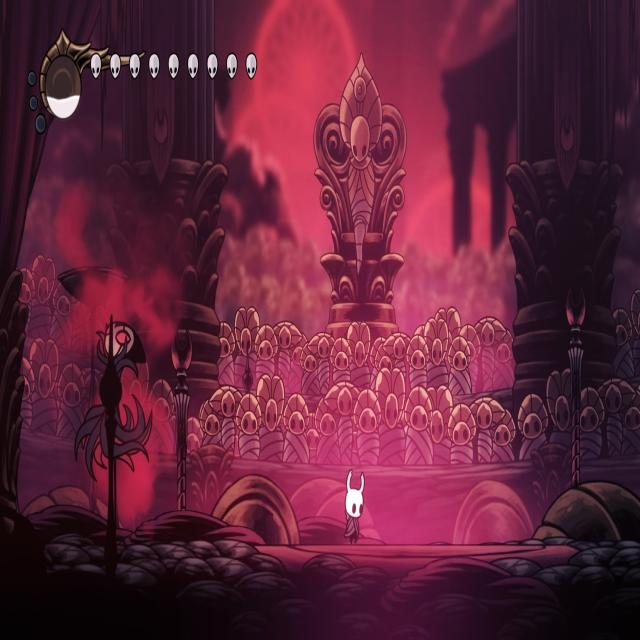Grimm: (71, 314, 159, 532)
Player: (342, 464, 366, 546)
